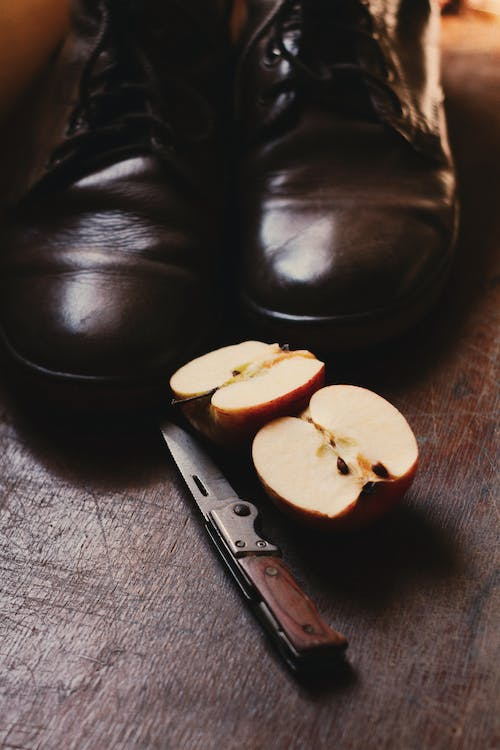knife: (155, 419, 352, 680)
